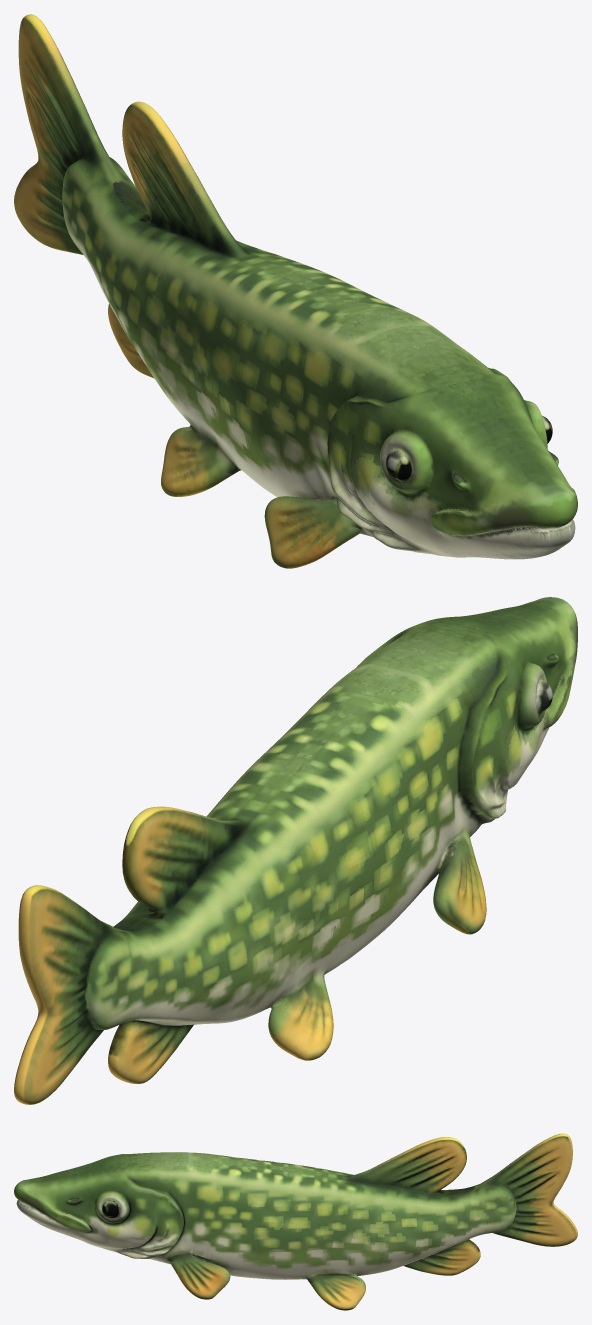
The model's file is Brochet.fbx.
3 views of the same model, one above another, from view 1: azimuth 30°, elevation 25°; view 2: azimuth 150°, elevation 25°; view 3: azimuth 270°, elevation 25° (orthographic). The views are drawn at different scales.
Parts seen in each view (by area): view 1: Mesh_0; view 2: Mesh_0; view 3: Mesh_0.
Part boxes in pixels (x1,y1,x2,y2): Mesh_0: (14,14,577,568); Mesh_0: (14,597,577,1104); Mesh_0: (14,1133,577,1310).
Size of the model in its own units: 40.82 by 58.64 by 190.
1 material, 1 textured.
